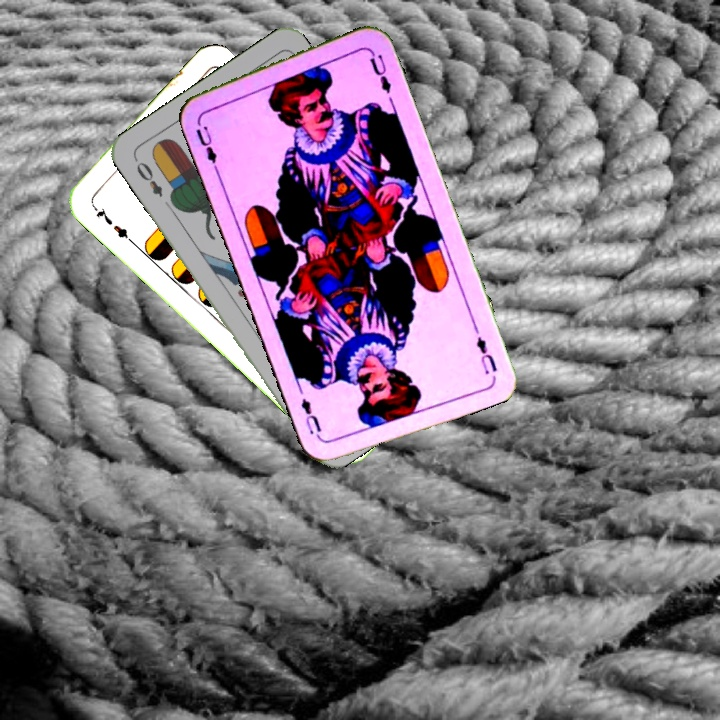E7: (88, 201, 136, 246)
EO: (132, 157, 166, 200)
EU: (471, 332, 500, 377), (191, 122, 220, 166)
